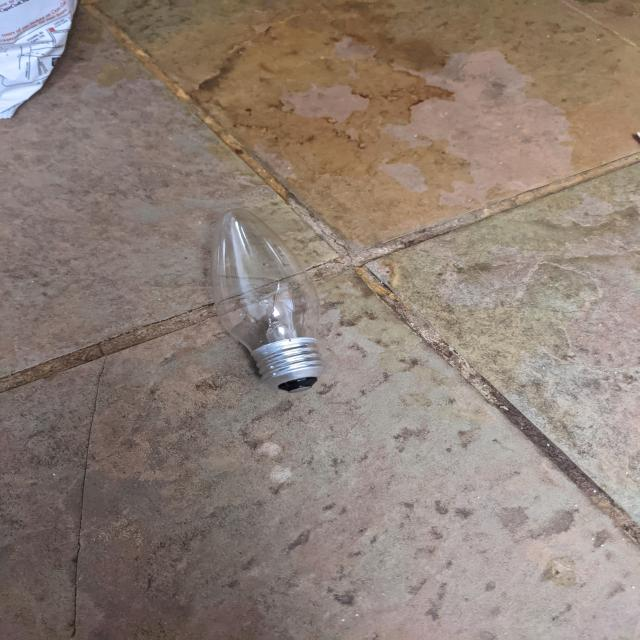litter: (213, 208, 322, 395), (2, 2, 77, 119)
